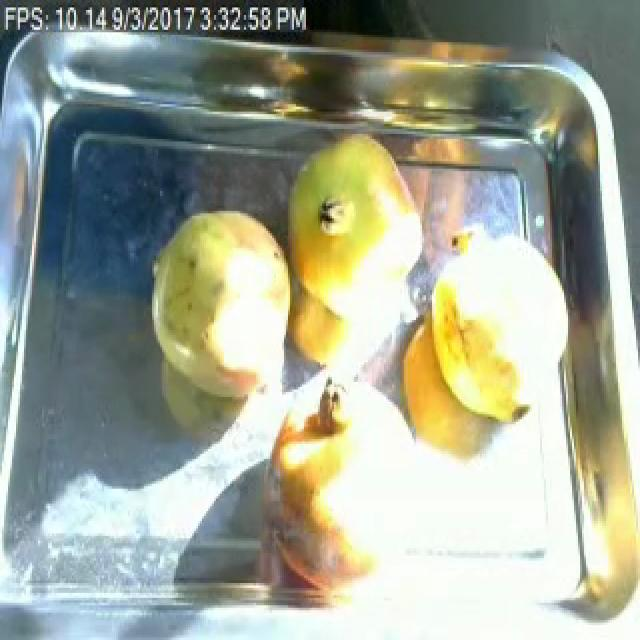fruit: (240, 379, 438, 603), (136, 191, 302, 419), (416, 223, 582, 439), (272, 124, 432, 300)
